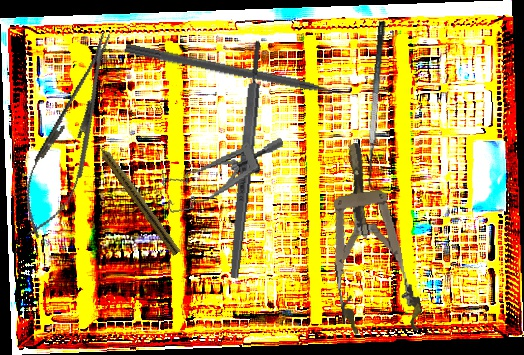Handpiece: (91, 135, 183, 257)
Needle Holder: (9, 22, 132, 247)
Pusher: (124, 42, 358, 105)
Scalpel Handle: (226, 39, 266, 280)
Spatula Surgical: (360, 20, 400, 194)
Speculum: (316, 137, 425, 342), (157, 135, 293, 215)
